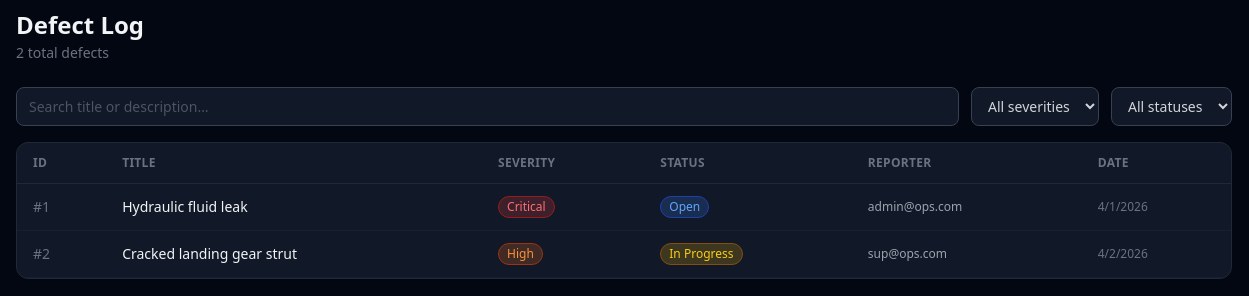
DefectLog — filtering › filters by search text and hides non-matching rows
The width and height of the screenshot is (1249, 296).
Expected: the text "Hydraulic fluid leak" is shown, [106, 184, 482, 230]
Type "landing gear" into the field with placeholder "Search title or description…".
click(488, 106); type("landing gear")  # box [16, 87, 959, 126]
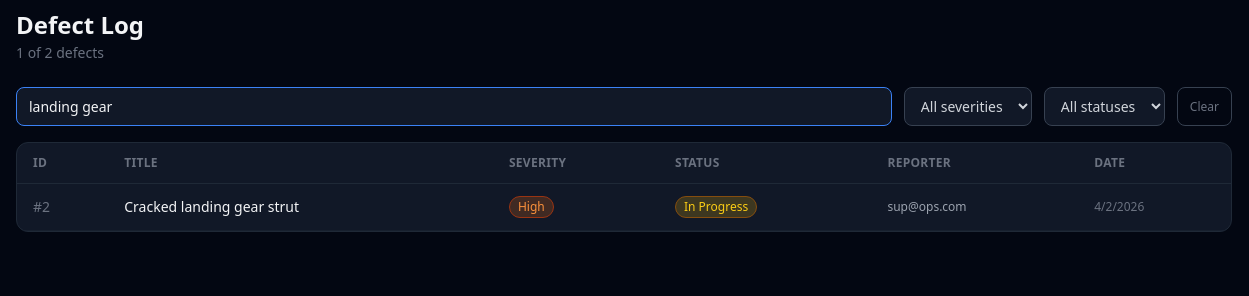
Expected: the text "Cracked landing gear strut" is shown, [108, 184, 493, 230]
Expected: the text "Hydraulic fluid leak" is gone
